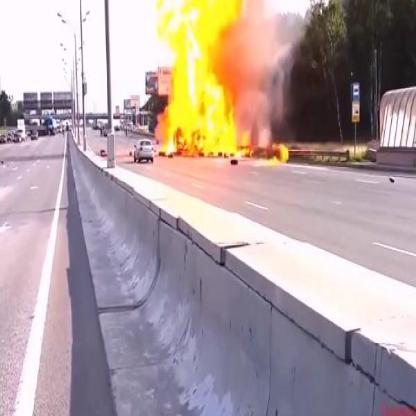fire: (153, 1, 257, 162), (266, 141, 294, 167)
